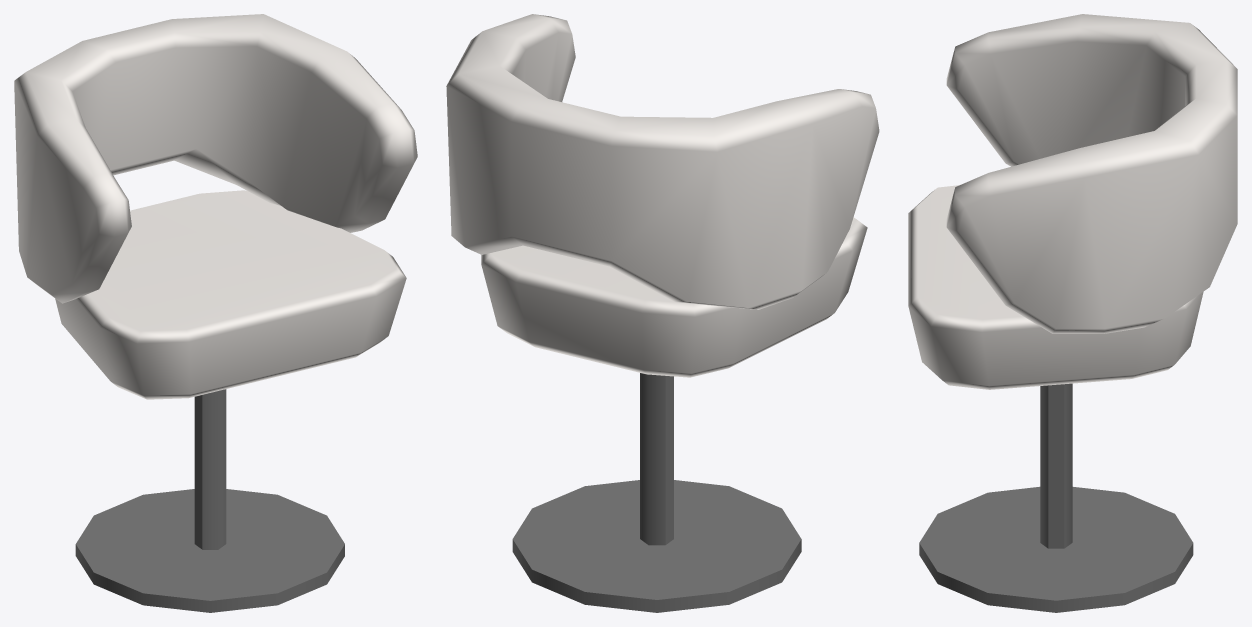
Rendered from lounge_chair_008.glb.
3 views of the same model, side by side, from view 1: azimuth 30°, elevation 25°; view 2: azimuth 150°, elevation 25°; view 3: azimuth 270°, elevation 25° (orthographic). The views are drawn at different scales.
Parts seen in each view (by area): view 1: lounge_chair_008; view 2: lounge_chair_008; view 3: lounge_chair_008.
Boxes of the visible parts, x1,y1,x2,y2 form: lounge_chair_008: (14,14,417,612); lounge_chair_008: (446,14,879,612); lounge_chair_008: (908,14,1237,612).
Size of the model in its own units: 0.7807 by 1.09 by 0.6865.
Materials: 1 (1 with a texture image).
